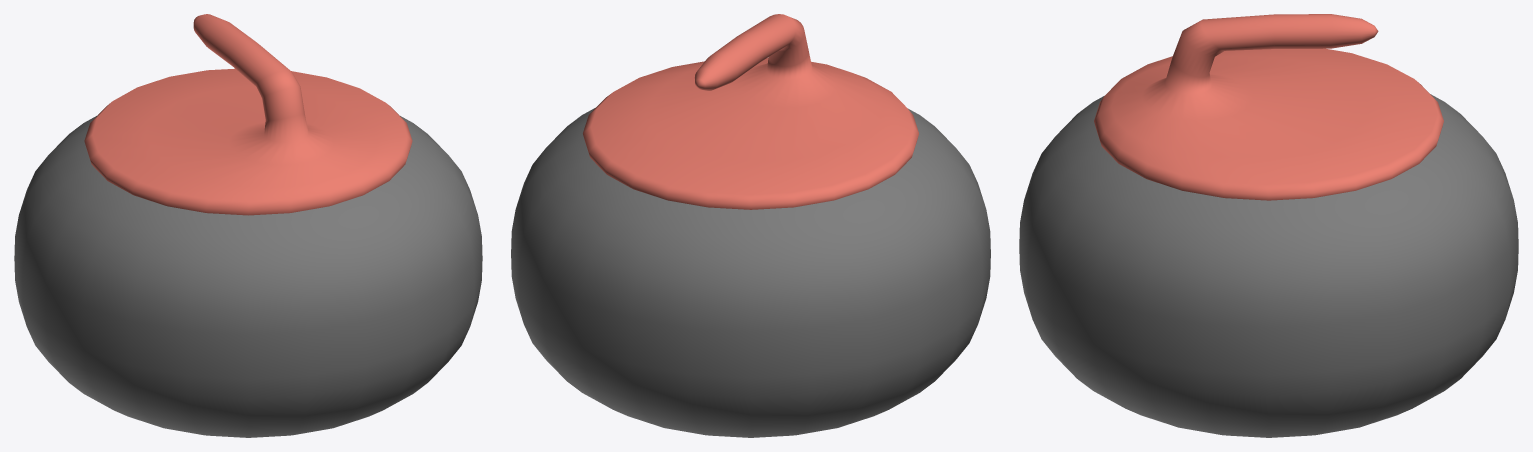
File: CurlingBall.fbx
3 views of the same model, side by side, from view 1: azimuth 30°, elevation 25°; view 2: azimuth 150°, elevation 25°; view 3: azimuth 270°, elevation 25° (orthographic). The views are drawn at different scales.
Visible parts, largest first — view 1: CurlingBall; view 2: CurlingBall; view 3: CurlingBall.
Boxes of the visible parts, <box> form: CurlingBall: <box>14,14,482,437</box>; CurlingBall: <box>511,14,990,437</box>; CurlingBall: <box>1019,14,1518,437</box>.
Size of the model in its own units: 0.1605 by 0.1298 by 0.1605.
